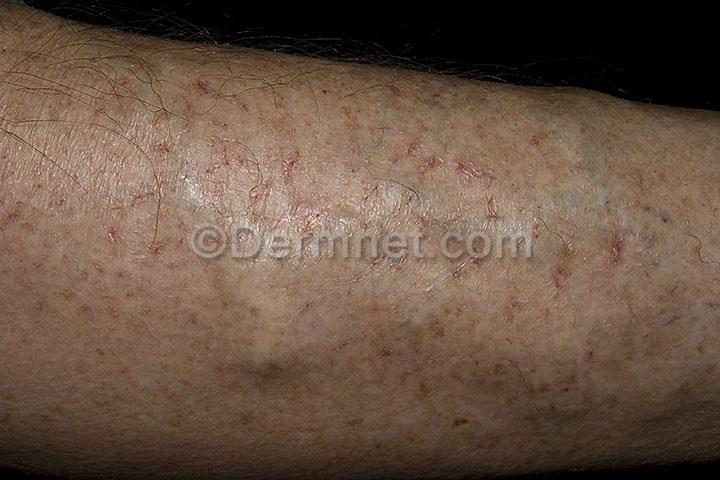Eczema: (21, 260, 554, 474), (84, 30, 341, 232), (326, 52, 550, 215), (558, 81, 704, 301), (533, 292, 700, 480), (0, 24, 83, 248), (704, 106, 720, 480)
